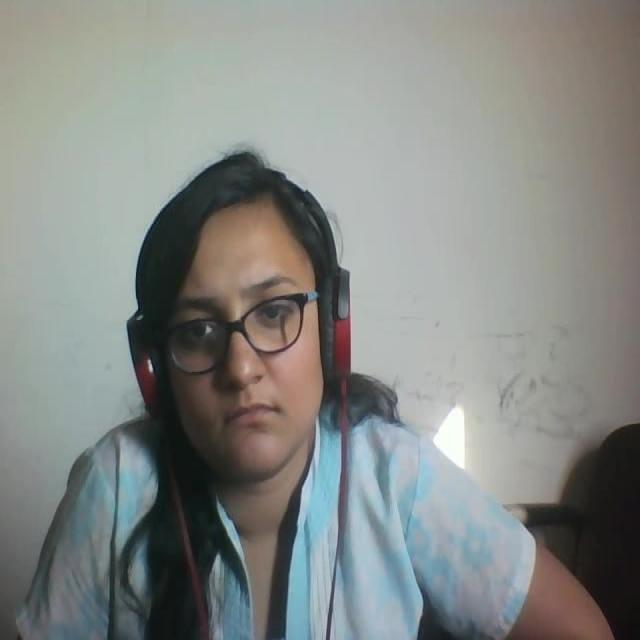Engaged: (104, 156, 372, 476)
